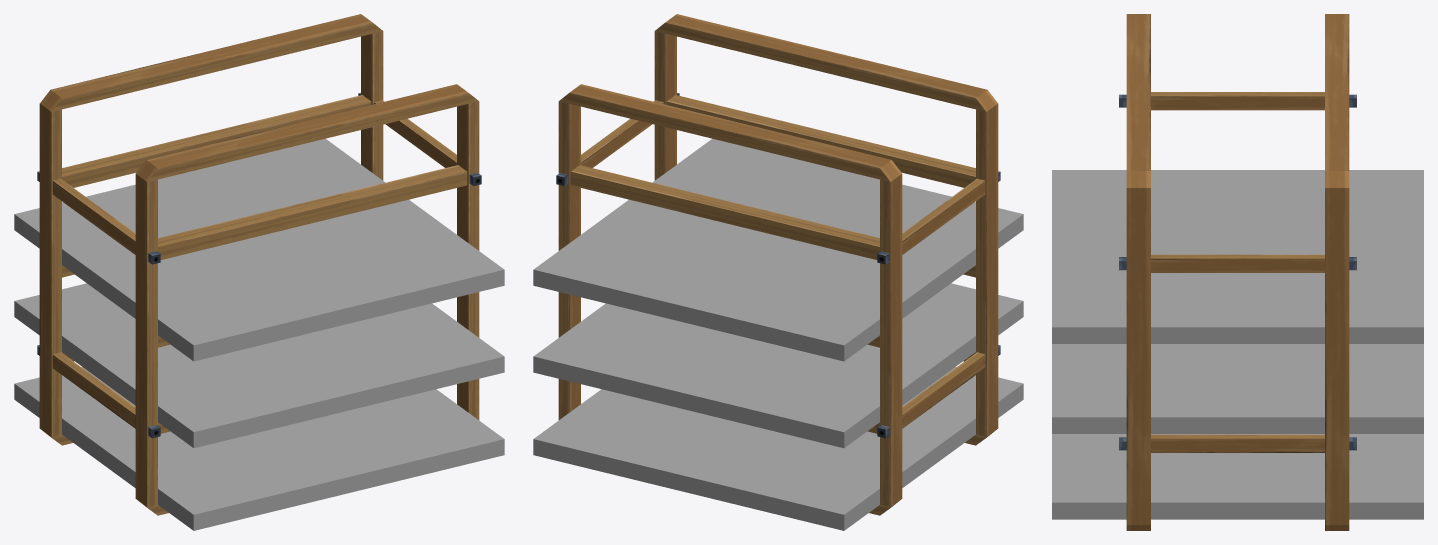
File: GlassStacked3.fbx
3 renders of one model, left to right at view 1: azimuth 30°, elevation 25°; view 2: azimuth 150°, elevation 25°; view 3: azimuth 270°, elevation 25°, orthographic. The views are drawn at different scales.
Visible parts, largest first — view 1: GlassStacked3; view 2: GlassStacked3; view 3: GlassStacked3.
Boxes of the visible parts, box(x1,y1,x2,y2) form: GlassStacked3: box(14, 14, 504, 530); GlassStacked3: box(533, 14, 1023, 530); GlassStacked3: box(1052, 14, 1423, 530).
Size of the model in its own units: 100 by 100 by 93.64.
